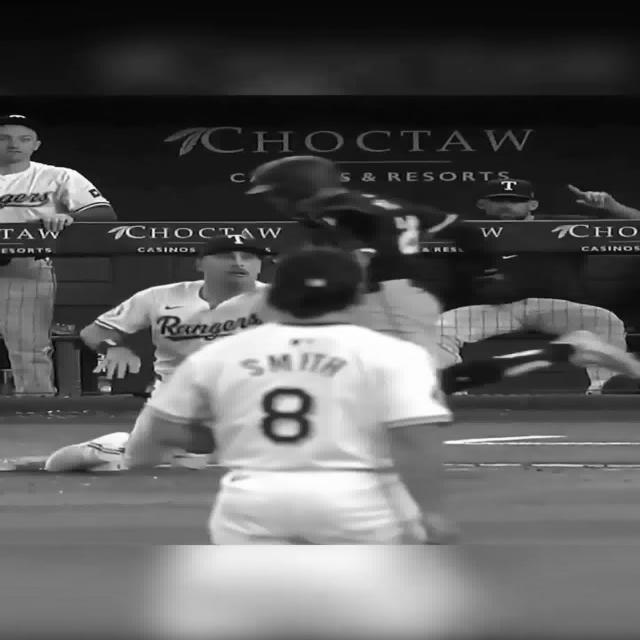base: (0, 456, 47, 471)
shoe: (553, 330, 640, 379), (44, 432, 129, 472)
